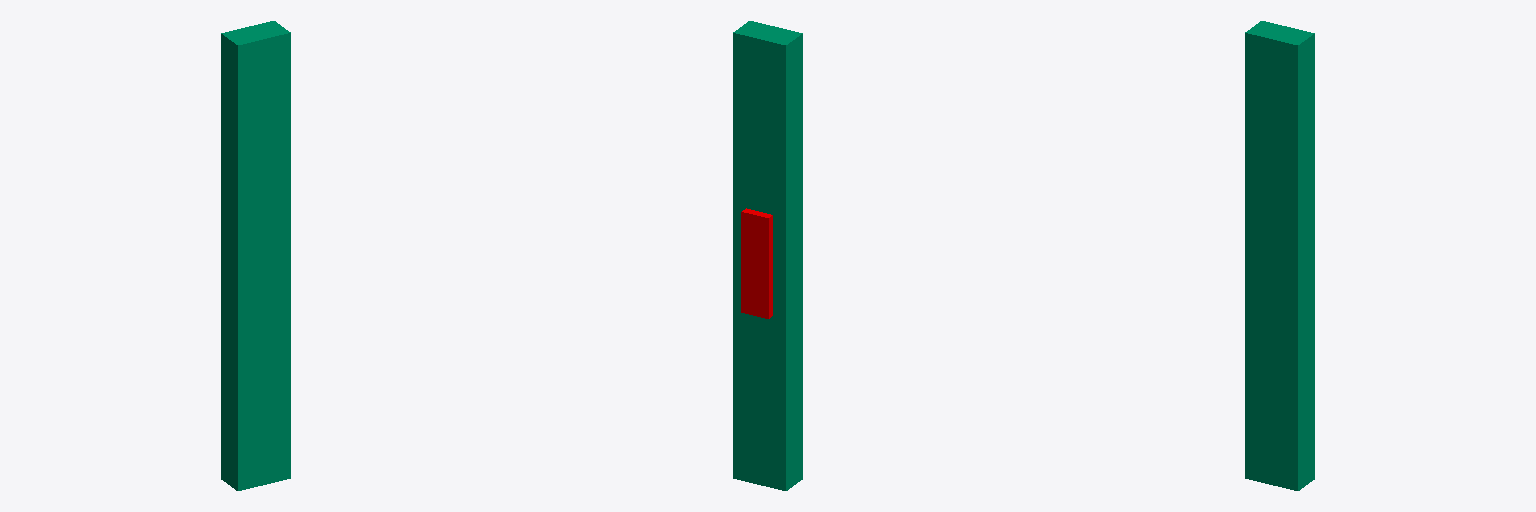
robot.urdf — knife:
<?xml version='1.0' encoding='utf-8'?>
<robot name="knife">
  <link name="base" /><joint name="joint_0" type="fixed"><origin xyz="0 0 0" rpy="0 0 0" /><parent link="base" /><child link="link_0" /></joint><link name="link_1">
    <visual name="link_1">
      <origin xyz="0 0.006234 0" rpy="0 0 0" />
      <geometry>
        <box size="0.009115844079386091 0.0027286083341146183 0.032447055864324476" /></geometry>
    <material name="red"><color rgba="1 0 0 1" /></material></visual>
    <collision>
      <origin xyz="0 0.006234 0" rpy="0 0 0" />
      <geometry>
        <box size="0.009115844079386091 0.0027286083341146183 0.032447055864324476" /></geometry>
    </collision>
    </link>
  <joint name="joint_1" type="prismatic">
    <origin xyz="0 0 0" />
    <axis xyz="0 0 1" />
    <child link="link_1" />
    <parent link="link_0" />
    <limit lower="-0.034720" upper="0.015280" effort="100.0" velocity="1.0" />
  </joint>
  <link name="link_0">
    <visual name="link_0">
      <origin xyz="0 0 0" />
      <geometry>
        <box size="0.017843517282719004 0.009738556553532899 0.14331466810072577" /></geometry>
    </visual>
    <collision>
      <origin xyz="0 0 0" />
      <geometry>
        <box size="0.017843517282719004 0.009738556553532899 0.14331466810072577" /></geometry>
    </collision>
    </link>
</robot>

--- Render facts (derived) ---
3 views of the same robot in one strip: view 1: azimuth 30°, elevation 25°; view 2: azimuth 150°, elevation 25°; view 3: azimuth 330°, elevation 25° (orthographic).
Robot: knife — 3 links, 2 joints (1 prismatic, 1 fixed); root link base; default pose: every joint at zero.
Links seen in each view (by area): view 1: link_0; view 2: link_0, link_1; view 3: link_0.
Boxes of the visible links, box(x1,y1,x2,y2) form: link_0: box(221, 21, 290, 490); link_0: box(733, 21, 802, 490); link_1: box(741, 208, 772, 318); link_0: box(1245, 21, 1314, 490).
Size in the robot's own frame: 0.0178 by 0.0125 by 0.1433 metres.
Geometry: primitives only (box / cylinder / sphere), no mesh files.
